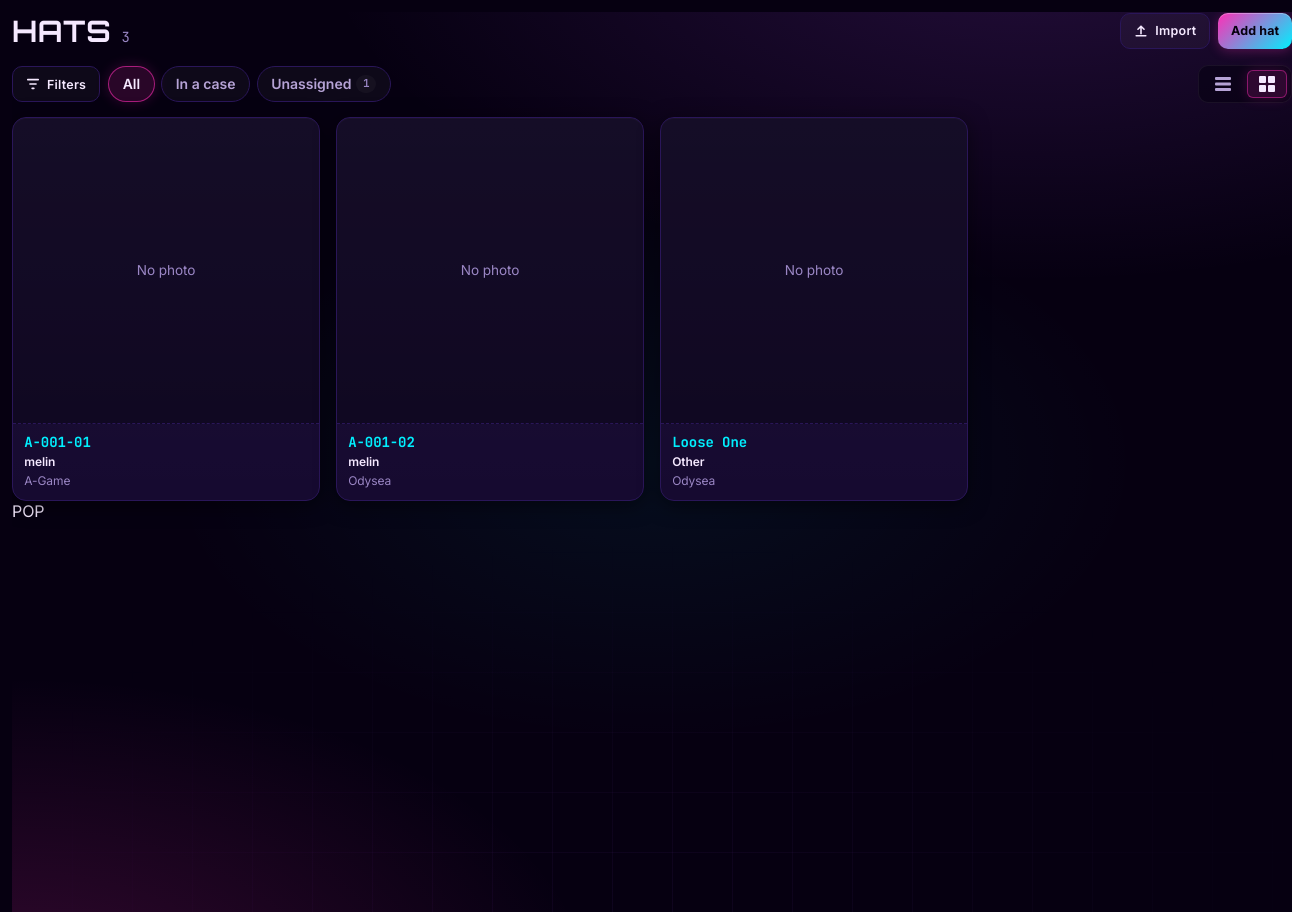
it: HatsPage › writes filters with a replace, never a history entry per change
The width and height of the screenshot is (1292, 912).
expect the text "A-001-01" is shown: met, box [24,433,91,451]
Click the button "Unassigned 1": (324, 84) [256,66,391,102]
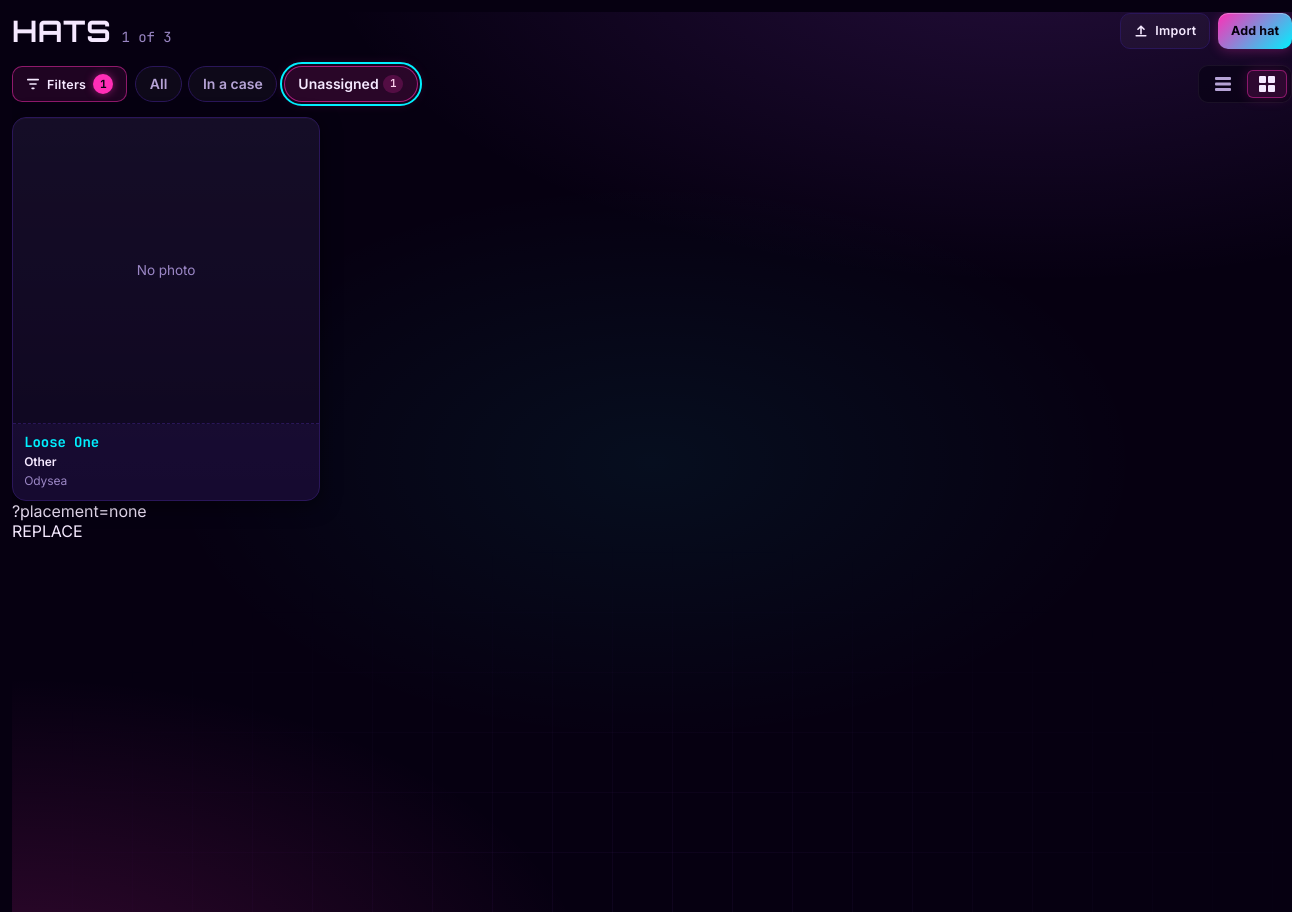
expect the text with test id "nav-type" reads "REPLACE": met, box [12,521,82,541]
